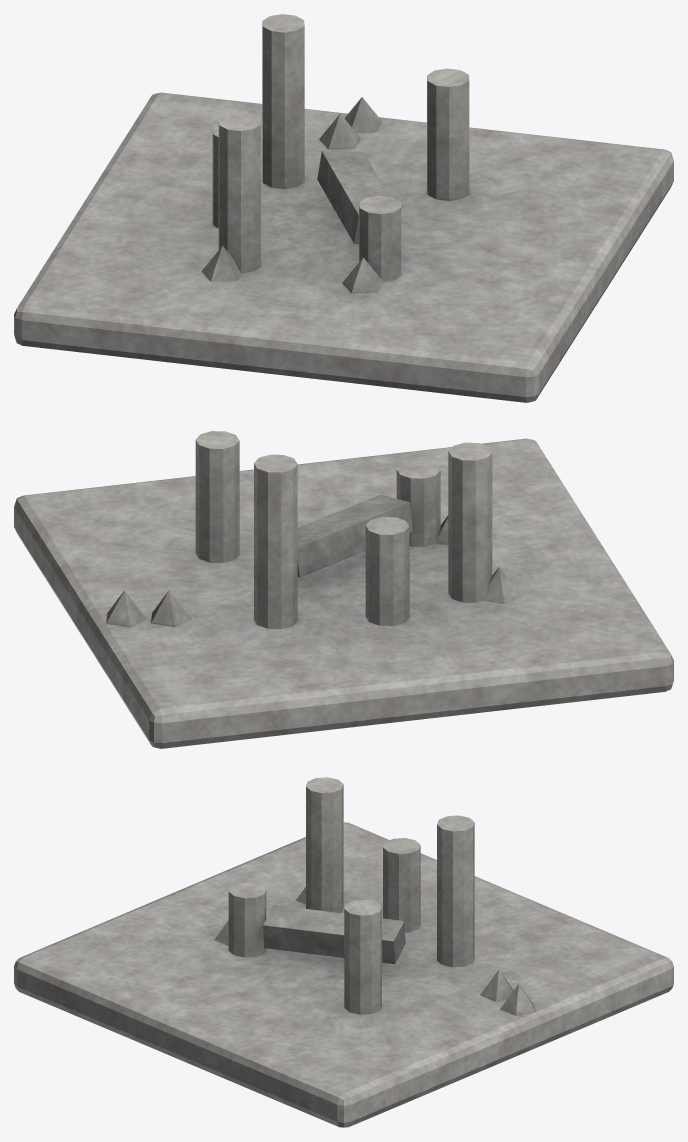
The model's file is ruins.glb.
The picture shows the model from 3 angles, top to bottom: view 1: azimuth 30°, elevation 25°; view 2: azimuth 150°, elevation 25°; view 3: azimuth 270°, elevation 25°; orthographic projection. The views are drawn at different scales.
Visible parts, largest first — view 1: dilek; view 2: dilek; view 3: dilek.
Boxes of the visible parts, left/top/right/bottom form: dilek: left=14, top=14, right=673, bottom=402; dilek: left=14, top=431, right=673, bottom=748; dilek: left=14, top=777, right=673, bottom=1127.
Bounding box in the file's own units: 2.42 × 0.69 × 2.42.
Materials: 1 (1 with a texture image).
